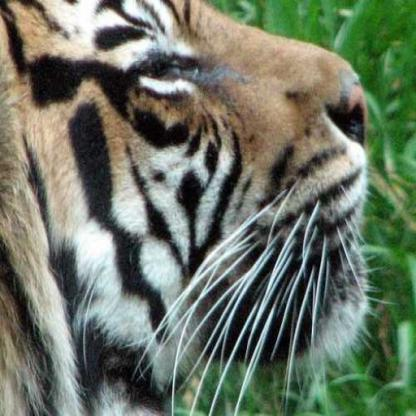Tiger: (0, 0, 384, 415)
